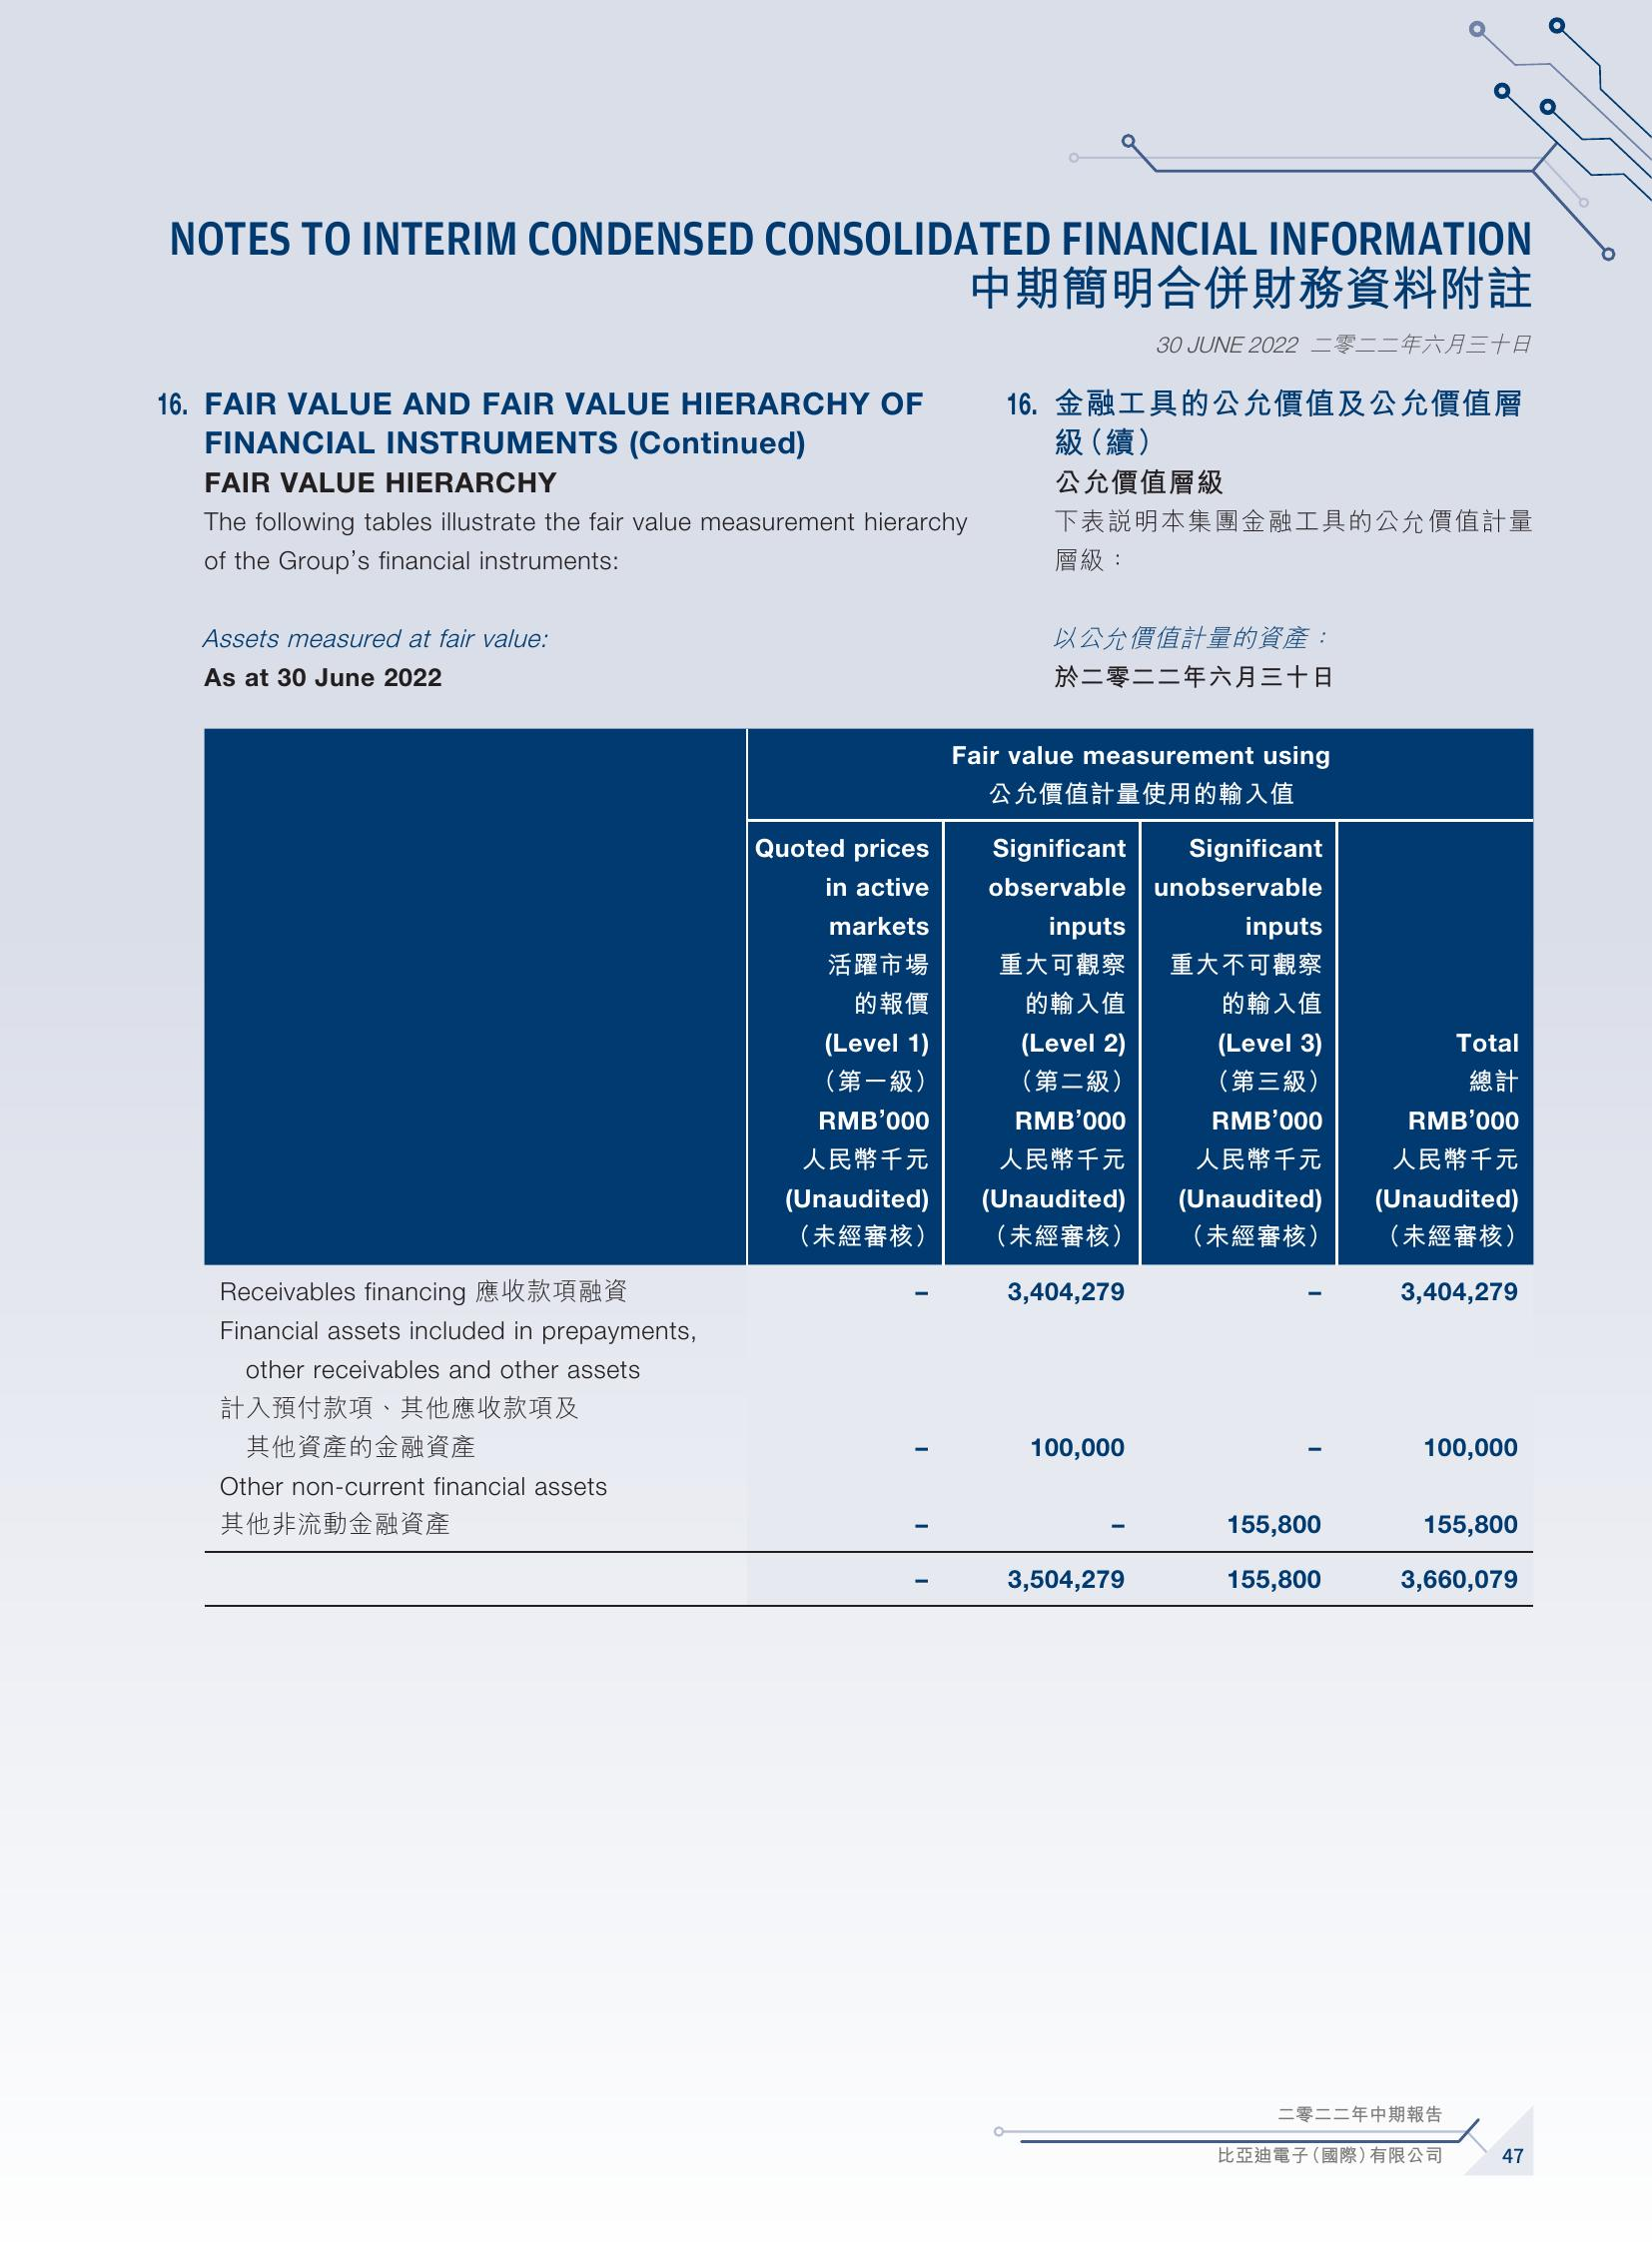Footer: (0, 2080, 1652, 2242)
Header: (0, 0, 1652, 193)
Table: (185, 708, 1551, 1614)
